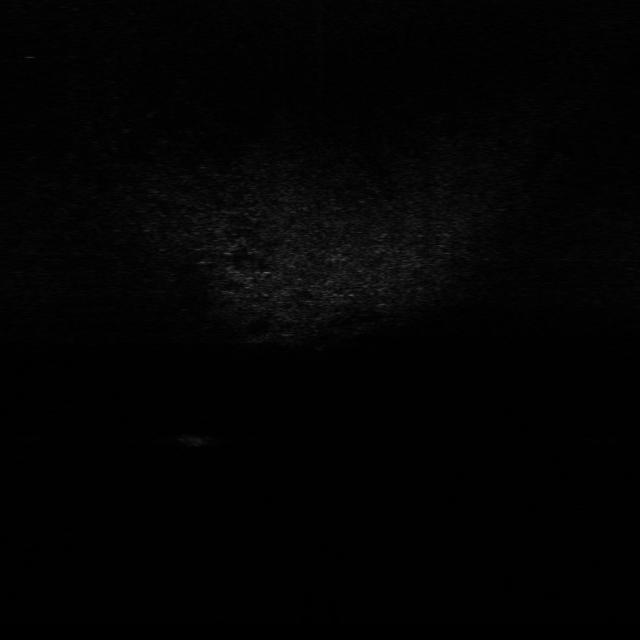cube: (178, 426, 218, 452)
